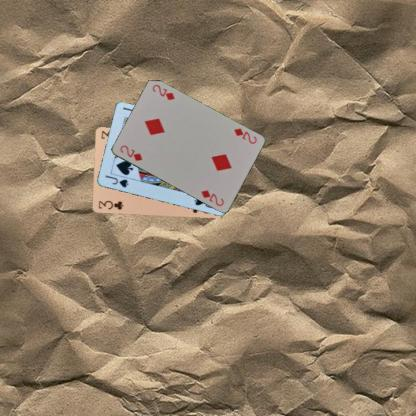2d: (231, 125, 258, 145), (118, 143, 144, 162)
3c: (96, 198, 125, 211)
Js: (103, 172, 129, 189)
